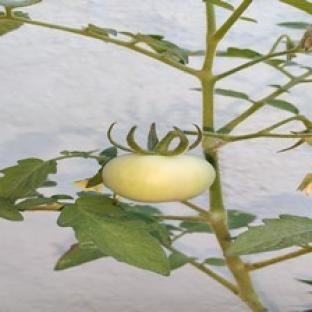Tomato: (102, 154, 215, 201)
